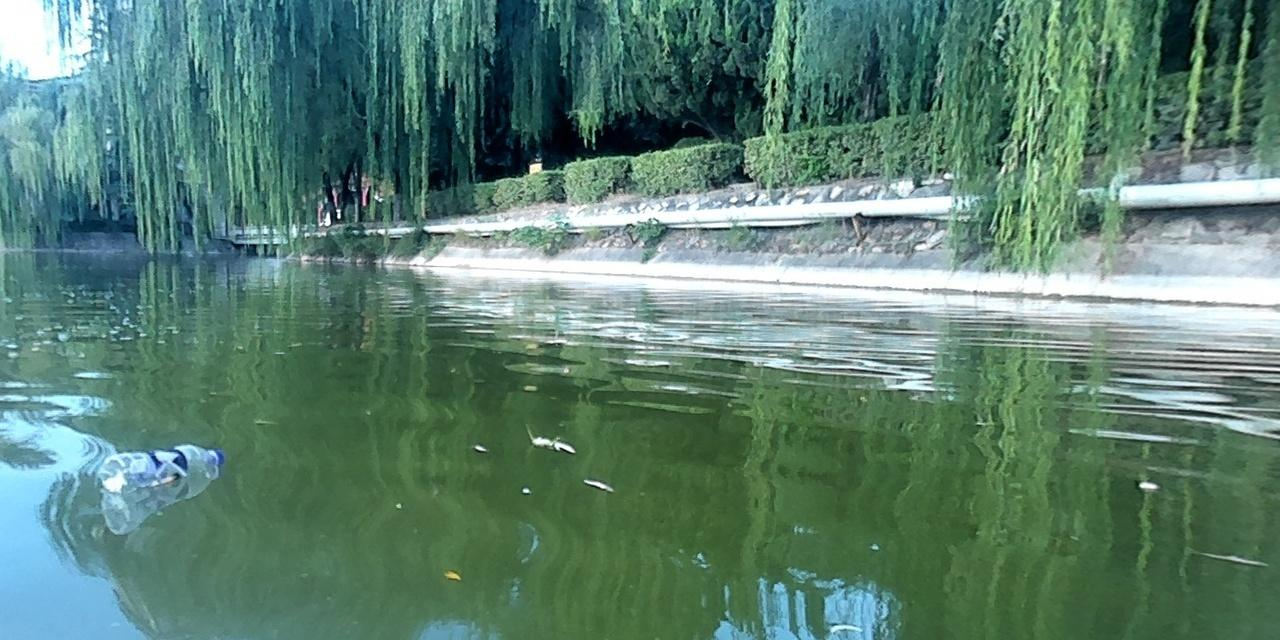bottle: (97, 441, 225, 496)
